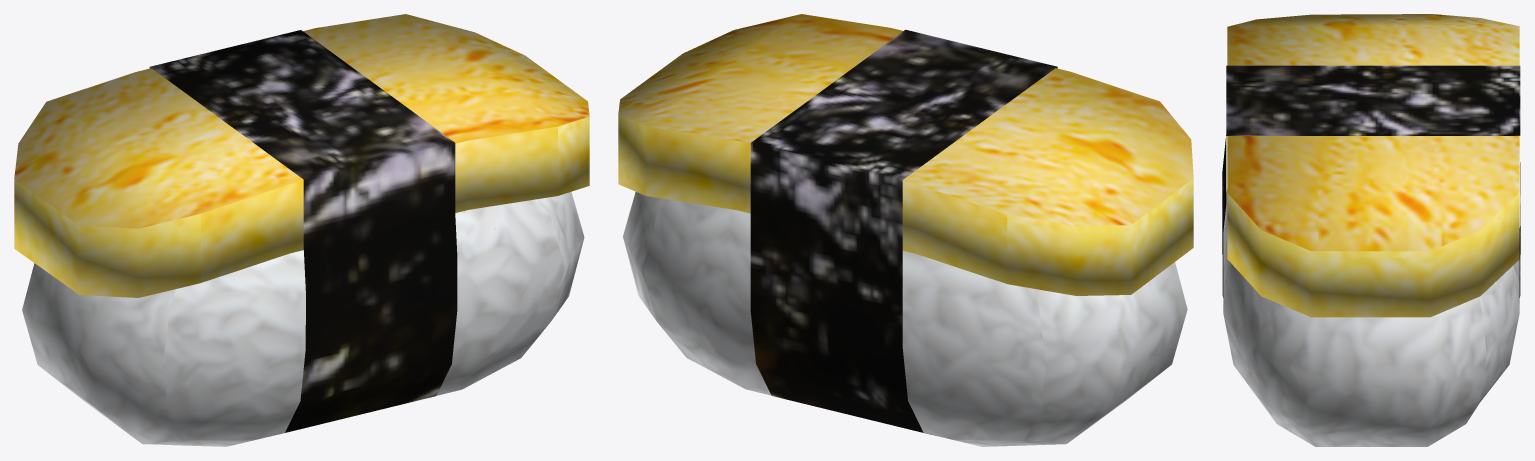
File: egg.fbx
3 views of the same model, side by side, from view 1: azimuth 30°, elevation 25°; view 2: azimuth 150°, elevation 25°; view 3: azimuth 270°, elevation 25° (orthographic). The views are drawn at different scales.
Parts seen in each view (by area): view 1: egg; view 2: egg; view 3: egg.
Boxes of the visible parts, x1=… form: egg: x1=14, y1=14, x2=589, y2=446; egg: x1=618, y1=14, x2=1193, y2=446; egg: x1=1222, y1=14, x2=1520, y2=446.
Bounding box in the file's own units: 5.93 × 3.24 × 3.15.
